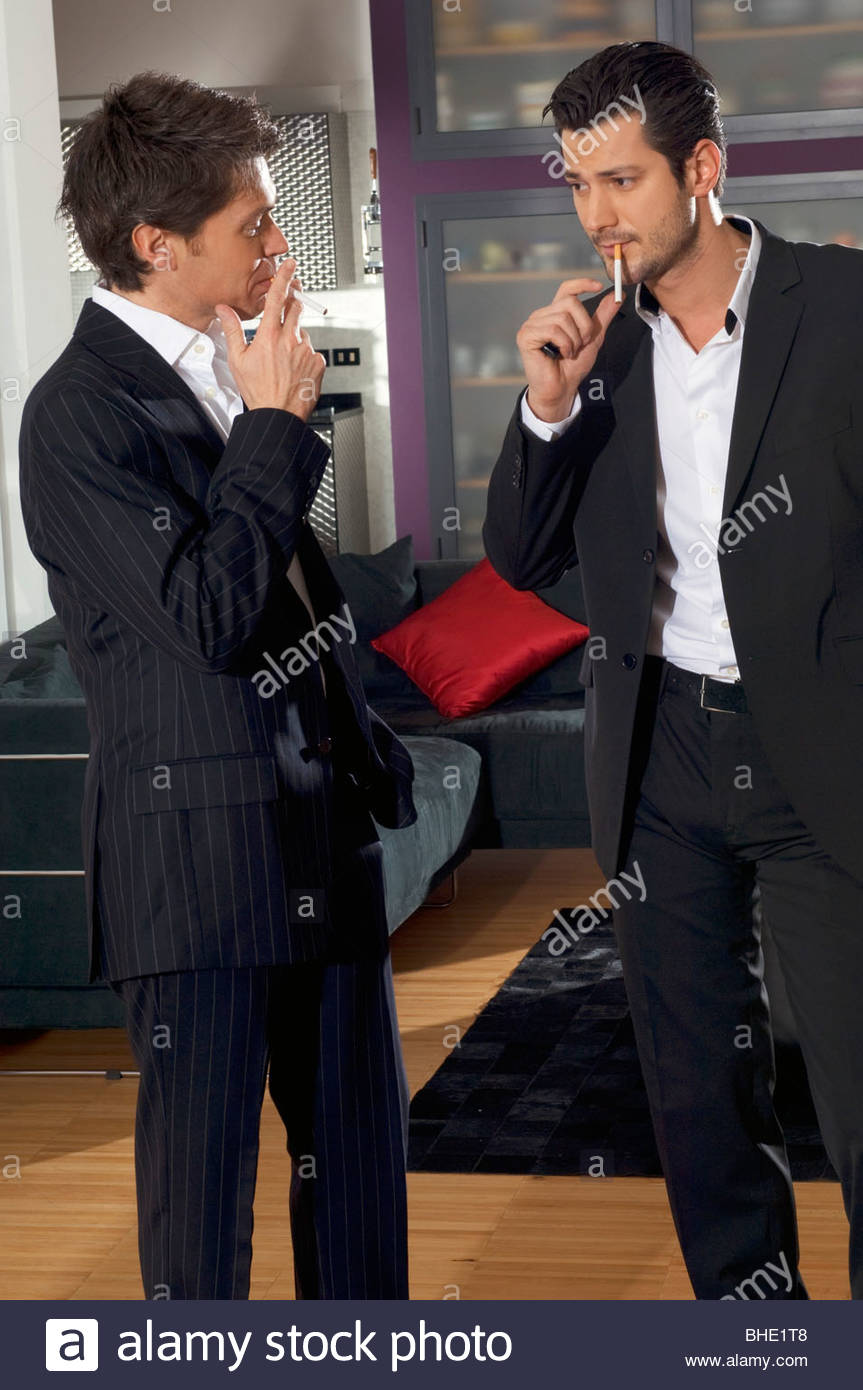cigarette: (282, 284, 332, 319), (617, 237, 620, 305)
